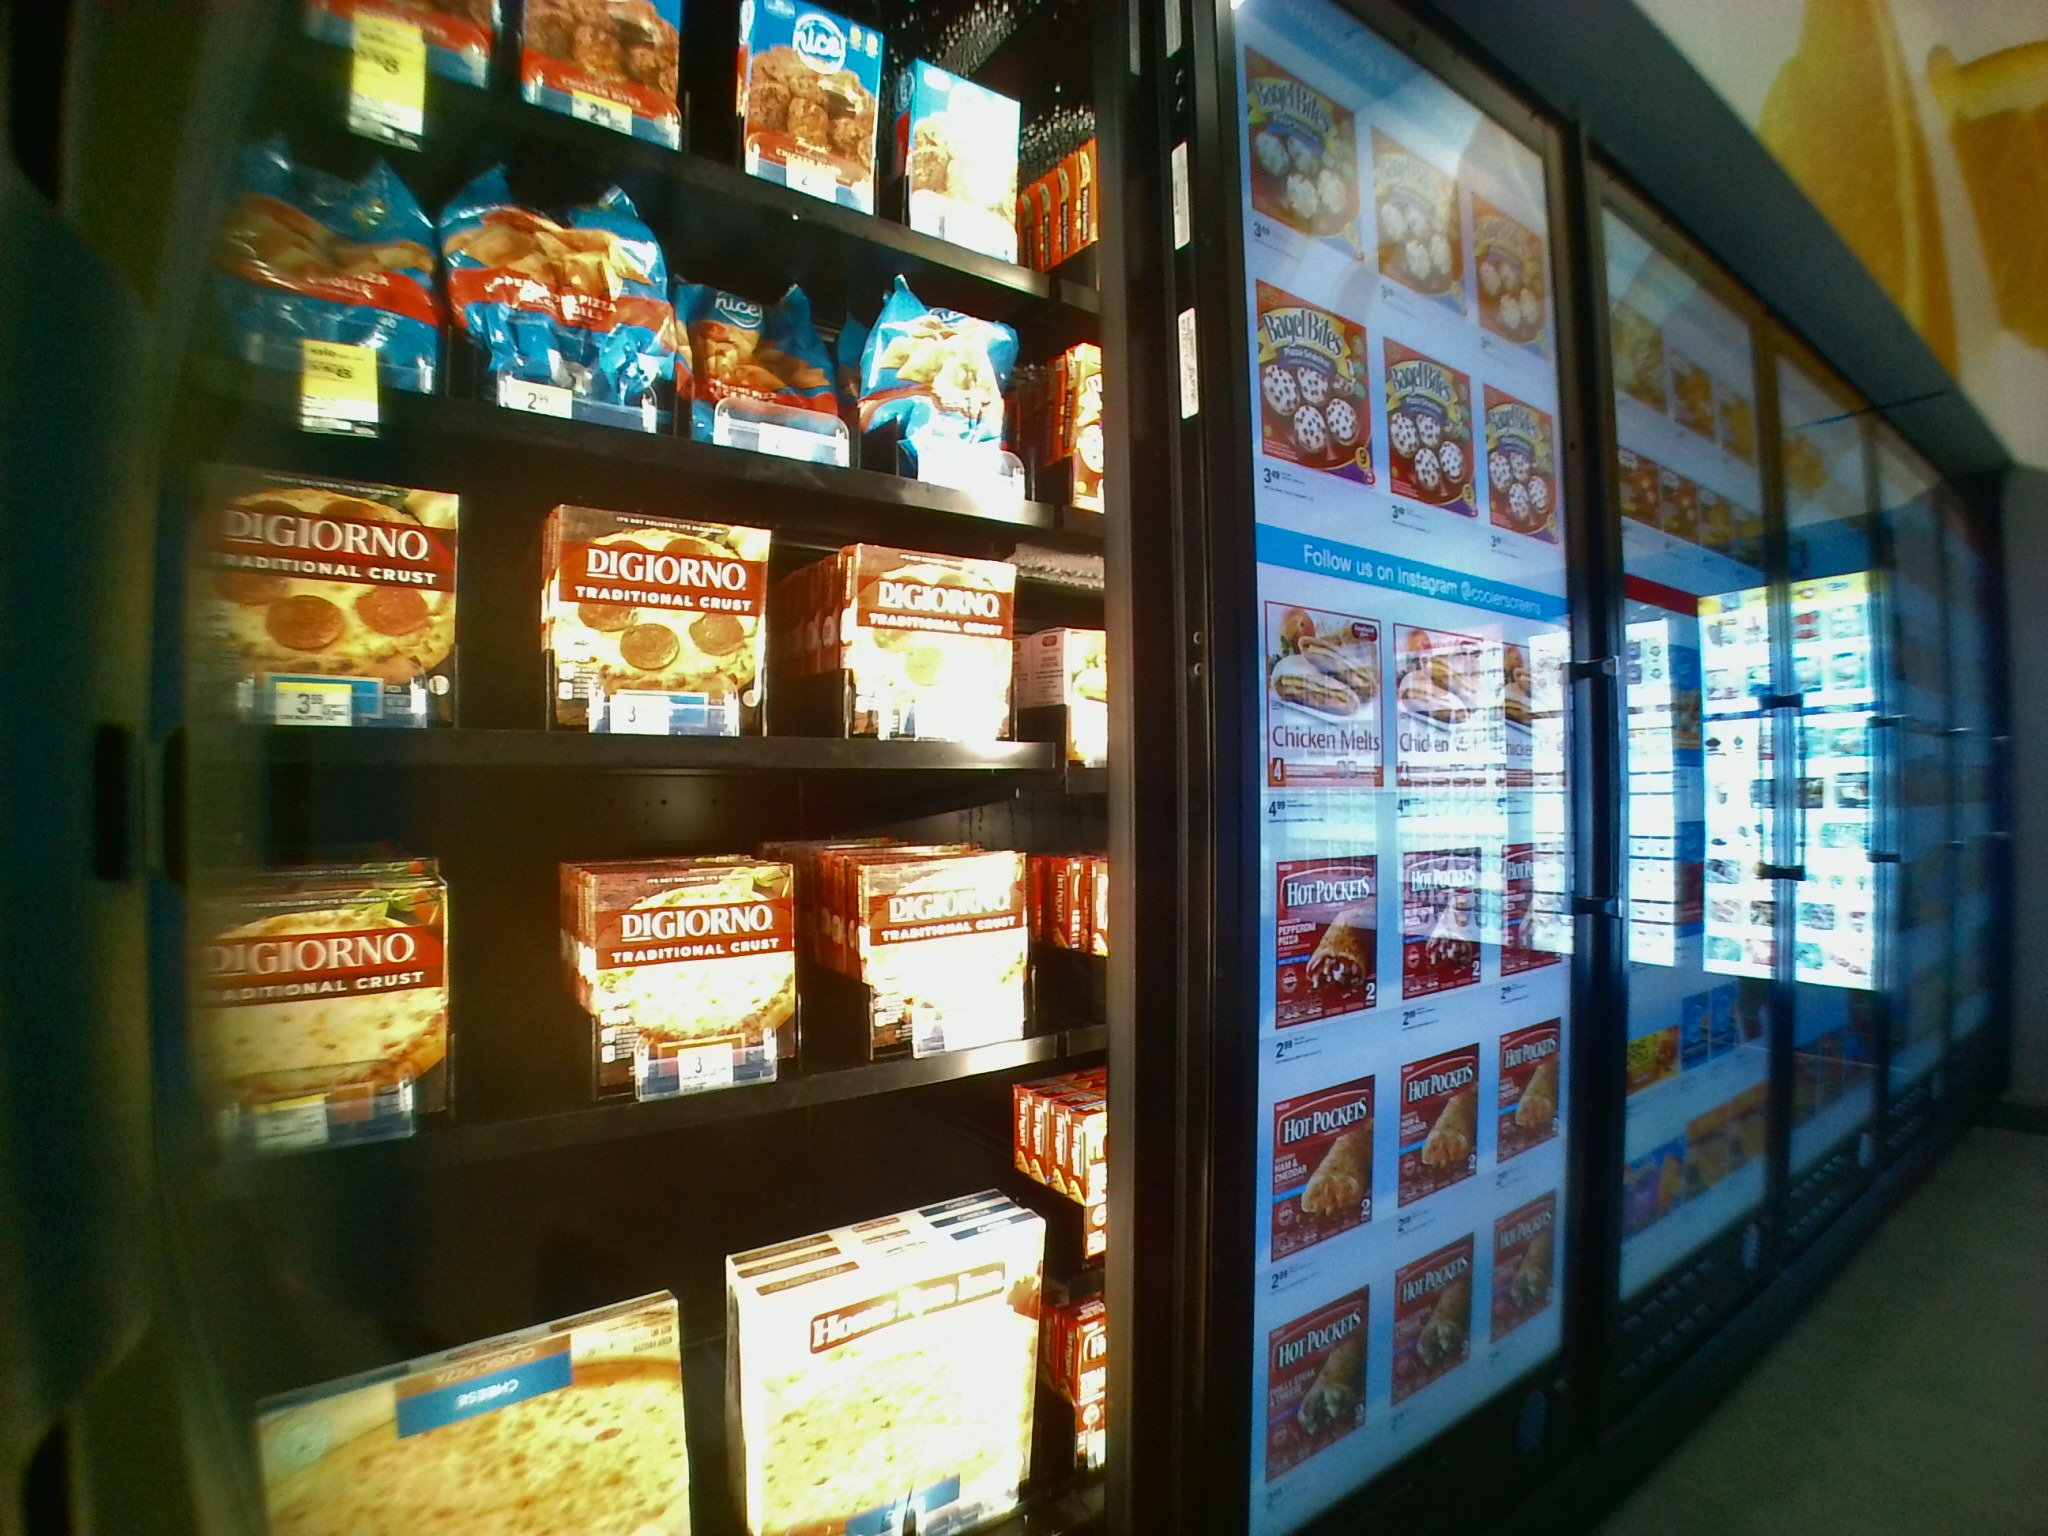shelf: (182, 753, 1059, 1149), (164, 470, 1076, 760), (210, 200, 1055, 482)
